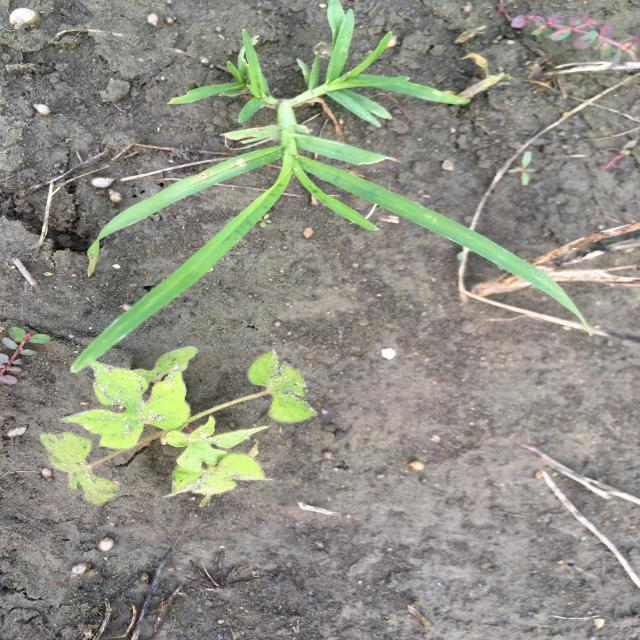Goosegrass: (68, 1, 595, 374)
MorningGlory: (38, 346, 318, 505)
